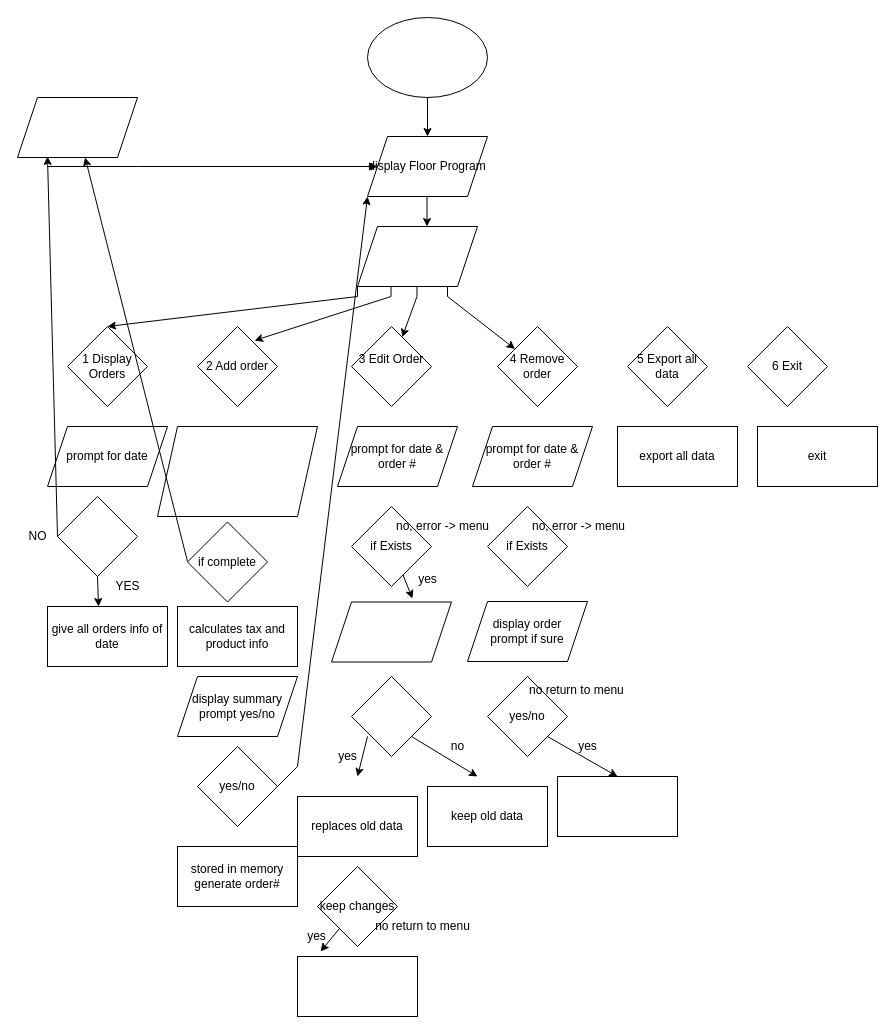
Image size: 895x1034. Some labels were removed from this diagram. Here are the shapes that lost their labels. From the top down, the centre of each, then its label:
At point 427,57: "start".
At point 77,127: "error msg".
At point 417,256: "prompt user 1-6".
At point 237,471: "prompt order date name state prompt product type area".
At point 97,536: "if dateExists".
At point 391,631: "display existing data prompt for new data".
At point 391,716: "if new data".
At point 617,806: "remove".
At point 357,986: "write to the file".
